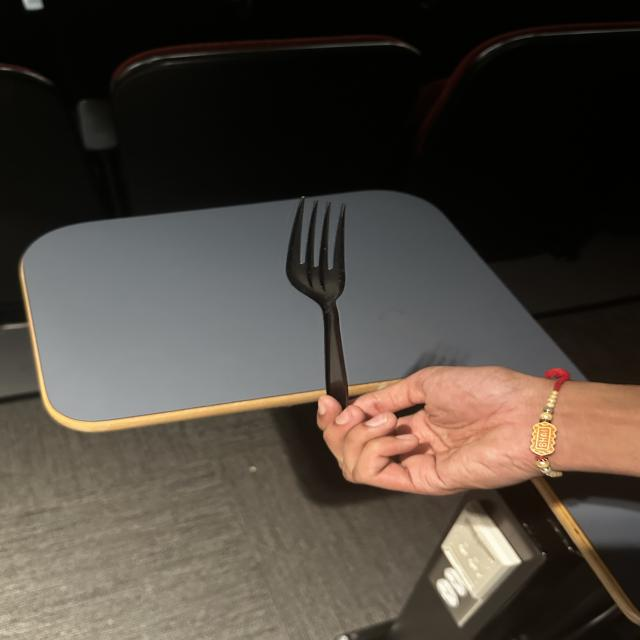fork: (239, 162, 416, 452)
